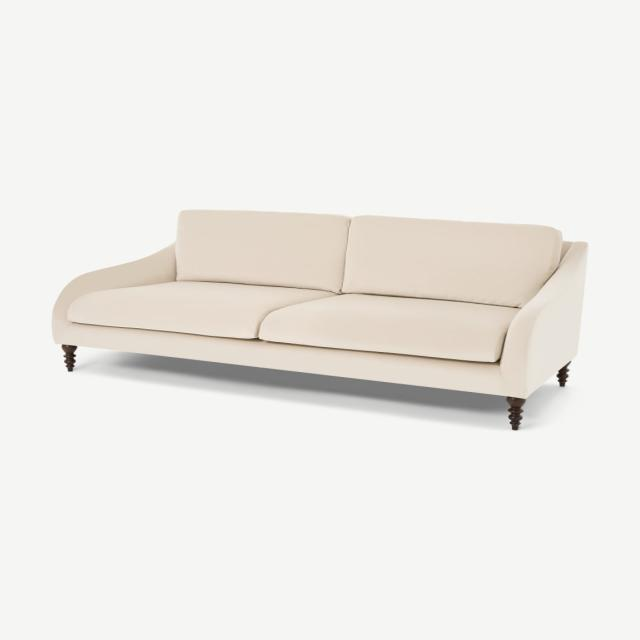Soffa: (51, 213, 596, 436)
